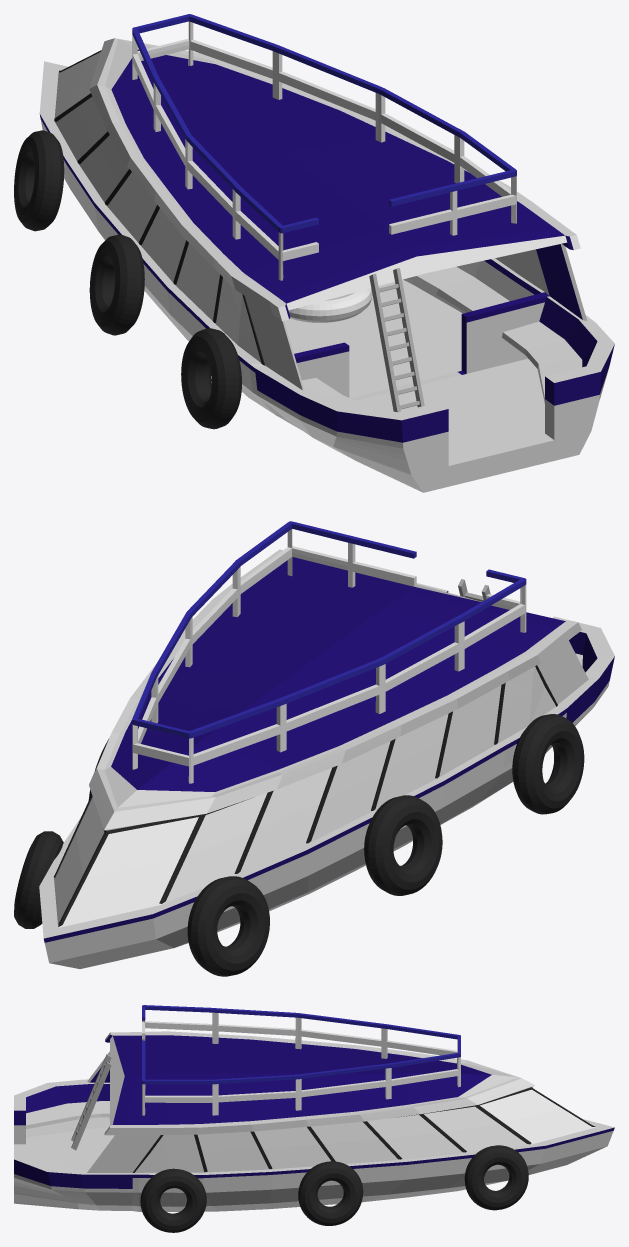
Rendered from Boat_Launch.fbx.
The picture shows the model from 3 angles, top to bottom: view 1: azimuth 30°, elevation 25°; view 2: azimuth 150°, elevation 25°; view 3: azimuth 270°, elevation 25°; orthographic projection. The views are drawn at different scales.
Visible parts, largest first — view 1: Cubo, Cubo.002, Rosca.002, Rosca.005, Rosca.006, Cubo.001, Rosca.001; view 2: Cubo, Cubo.002, Rosca.006, Rosca.005, Rosca.002, Rosca.007; view 3: Cubo, Cubo.002, Rosca.003, Rosca.004, Rosca.007, Cubo.001.
Boxes of the visible parts, x1,y1,x2,y2 form: Cubo: (39,38,614,492); Cubo.002: (132,14,516,280); Rosca.002: (181,328,241,429); Rosca.005: (89,234,144,335); Rosca.006: (14,130,64,231); Cubo.001: (369,268,424,412); Rosca.001: (288,288,372,322); Cubo: (39,549,614,968); Cubo.002: (132,521,526,783); Rosca.006: (187,876,269,976); Rosca.005: (364,795,442,895); Rosca.002: (512,714,584,814); Rosca.007: (14,831,63,928); Cubo: (14,1031,614,1211); Cubo.002: (142,1005,460,1115); Rosca.003: (140,1168,206,1232); Rosca.004: (298,1161,363,1225); Rosca.007: (464,1145,528,1210); Cubo.001: (71,1054,111,1150).
Bounding box in the file's own units: 1751 × 820 × 432.
